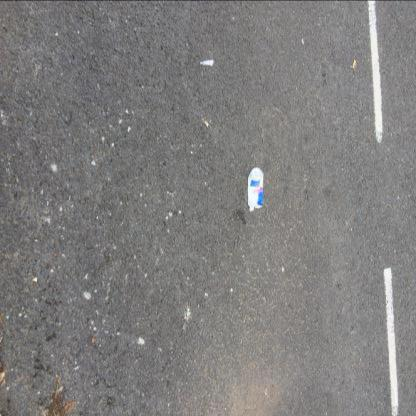Can: (248, 167, 264, 212)
Unlabeled litter: (200, 60, 214, 67)
